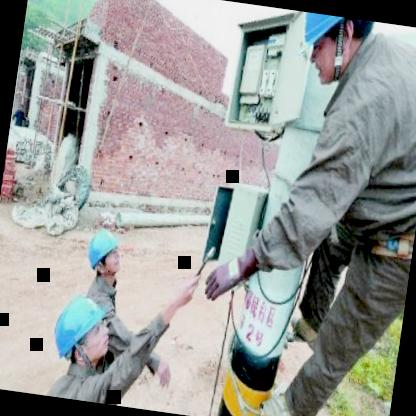helmet: (42, 282, 125, 378), (290, 11, 374, 99), (81, 224, 123, 282)
